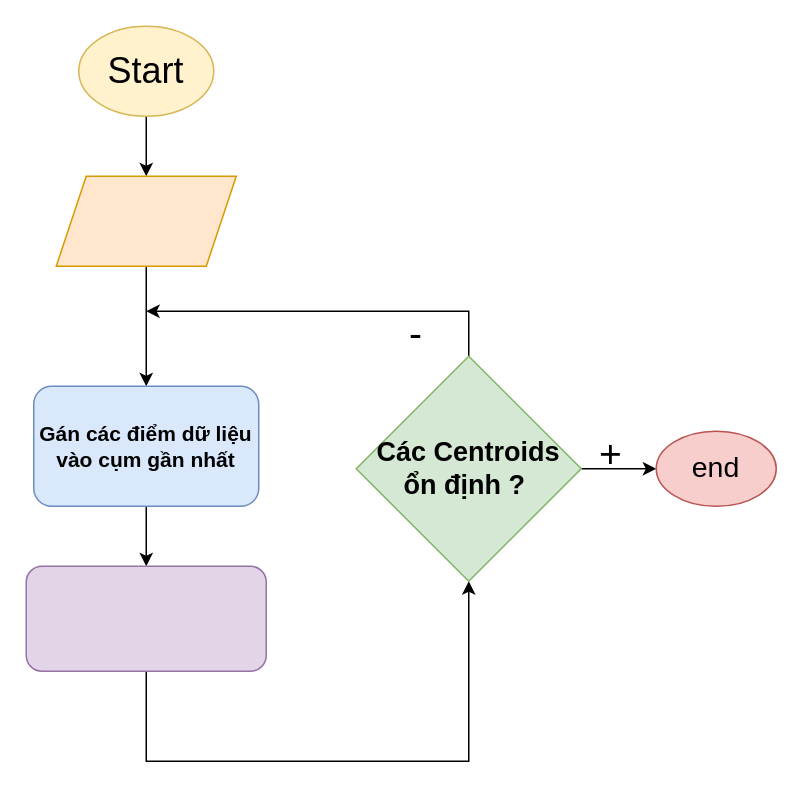
This 803x800 diagram has some shape labels left out. The box of each missing label's shape, as (x1, y1, x2, y2) in pixels:
Cập nhật Centroids: (25, 565, 266, 671)
Khởi tạo các Centroids: (55, 175, 236, 266)
